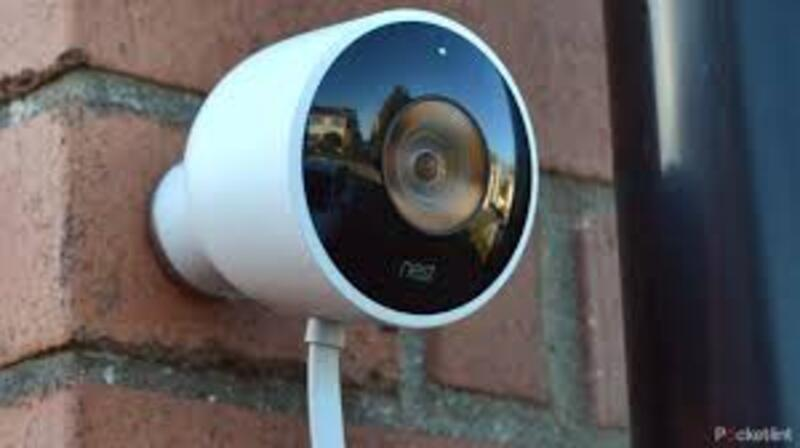nest: (188, 3, 549, 349)
